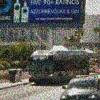buses: (28, 48, 97, 87)
